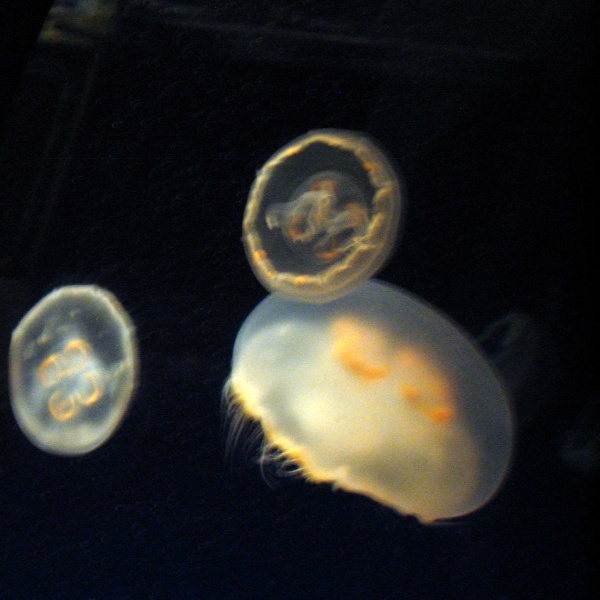Jellyfish: (216, 281, 520, 531), (241, 127, 407, 304), (9, 278, 146, 455)
